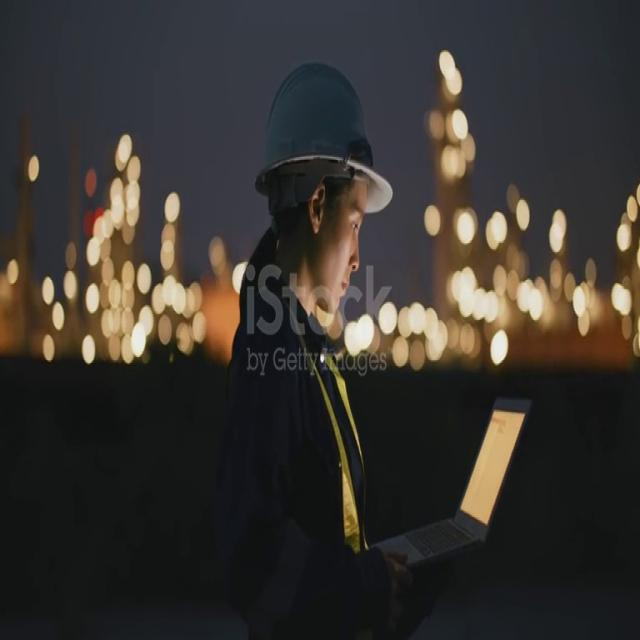capacete: (248, 53, 403, 241)
